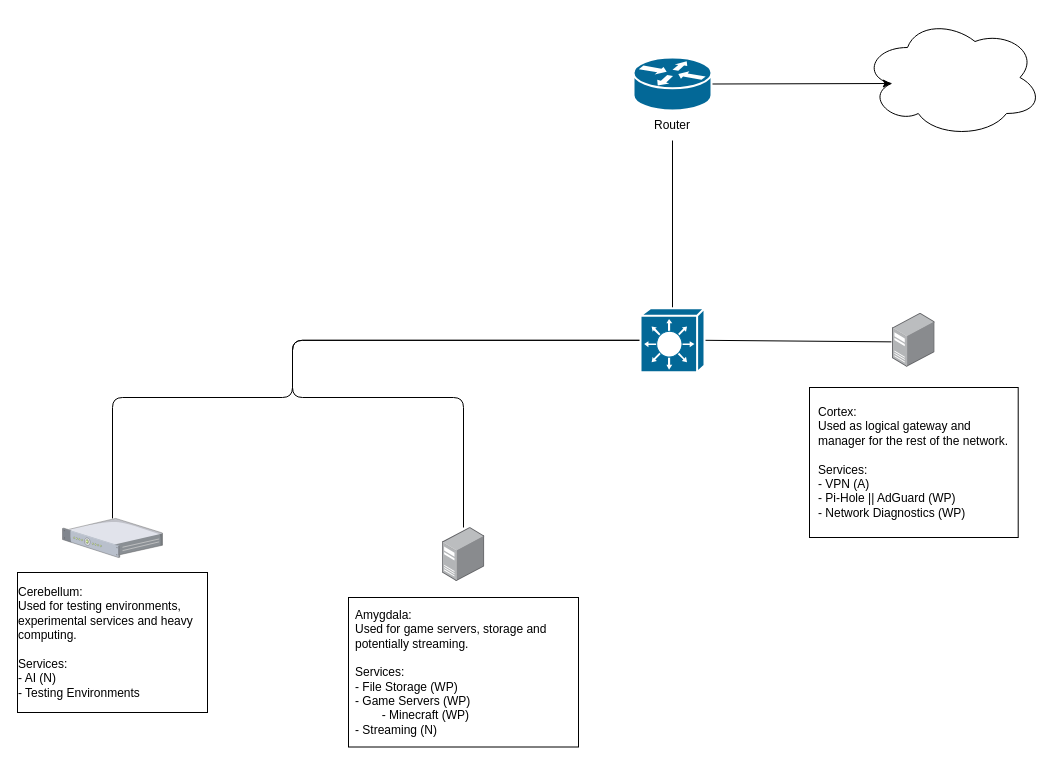
The diagram is 1060 pixels wide and 775 high, and some of its shapes have lost their labels. Here are the shapes that lost their labels. From the top down, the centre of each, then its label:
(952,77): Internet Domain: [hidden]
(672,340): Layer 3 Switch
